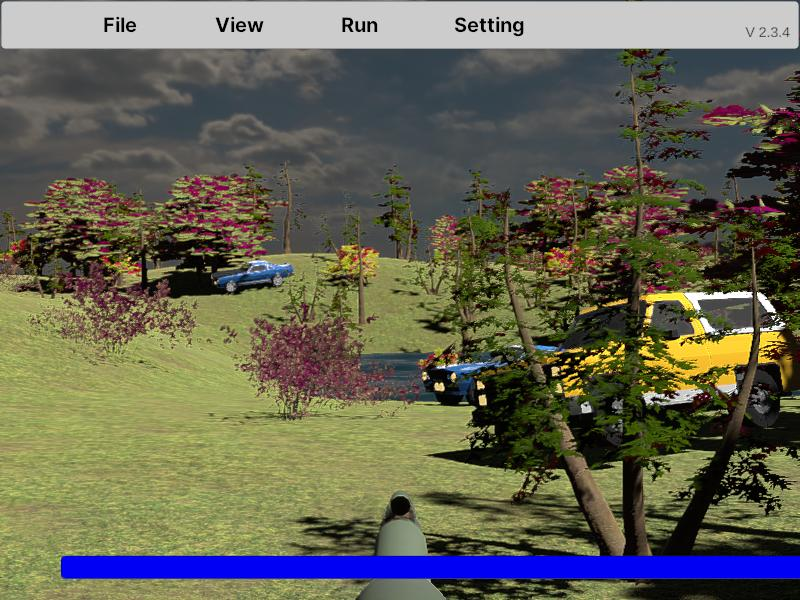car: (541, 287, 800, 440), (212, 260, 294, 294)
